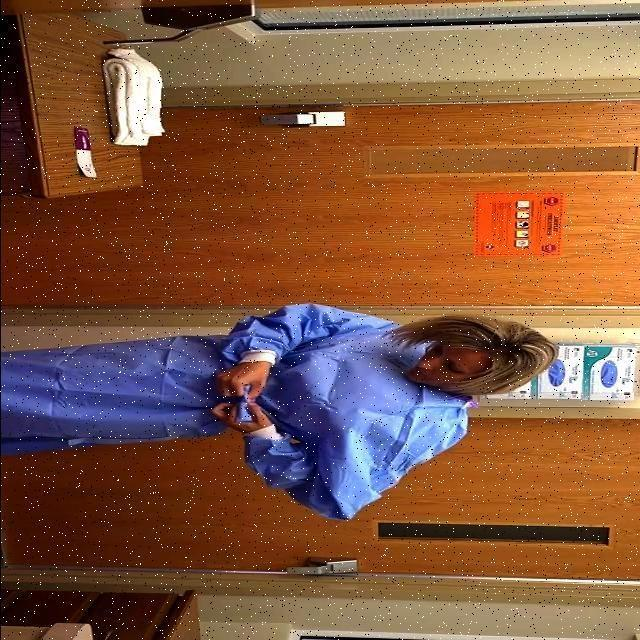no_apron: (197, 404, 275, 444), (215, 343, 272, 397)
no_hairnet: (413, 350, 450, 396)
